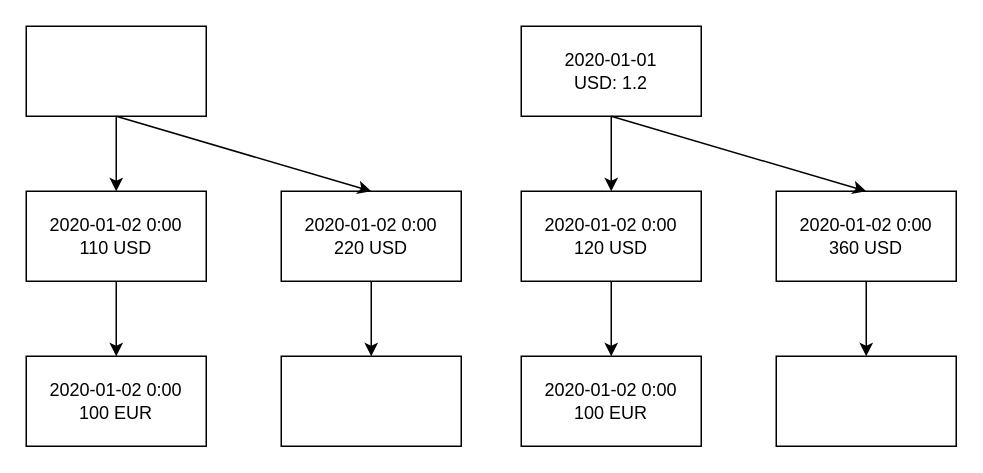
Some shapes in this 983 by 473 pixel diagram are drawn without their labels. Here are the shapes that lost their labels. From the top down, the centre of each, then its label:
At (115,70): "2020-01-01 USD: 1.1".
At (370,400): "2020-01-02 0:00 200 EUR".
At (865,400): "2020-01-02 0:00 300 EUR".
